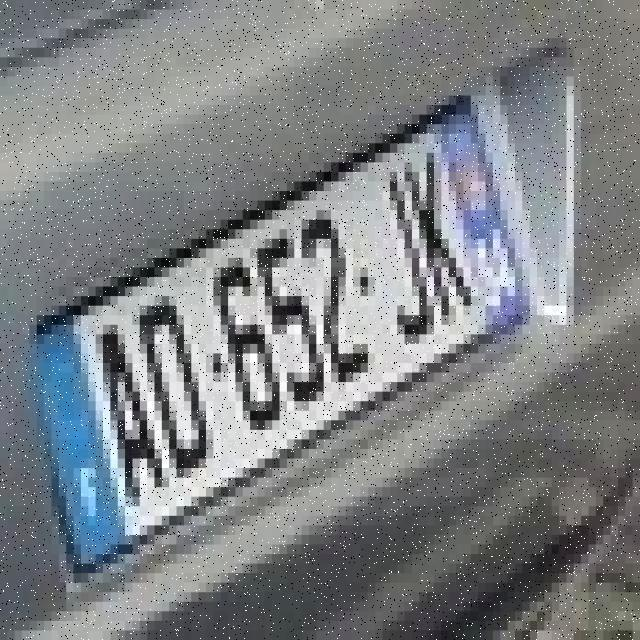LicensePlate: (11, 71, 570, 604)
